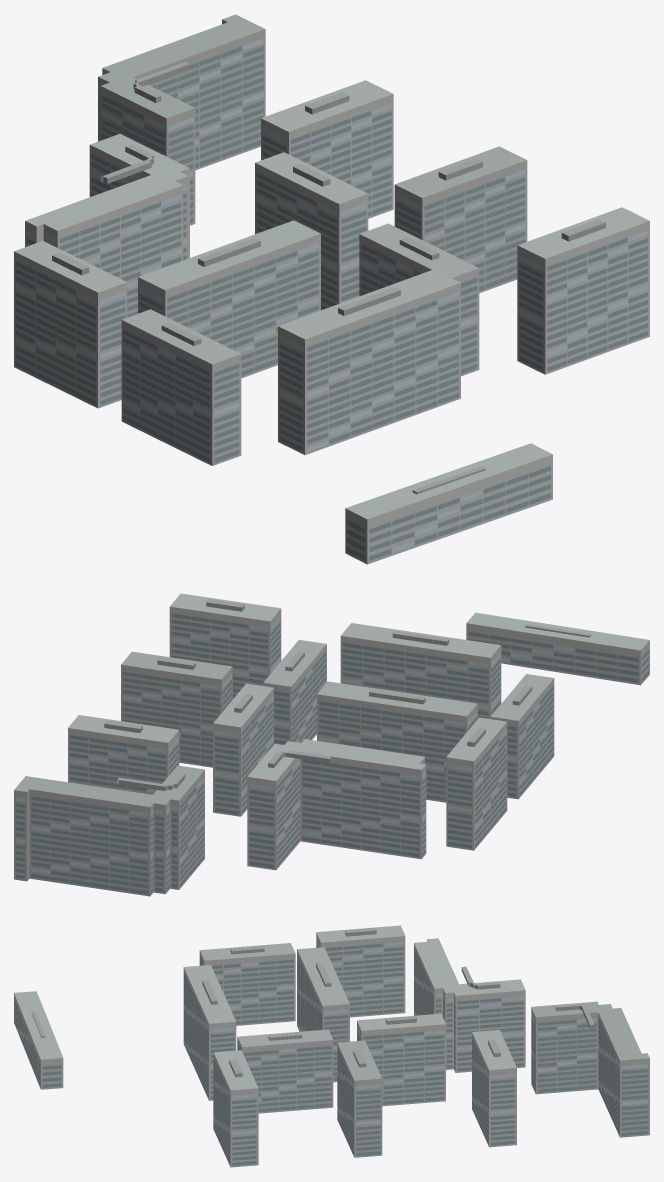
File: apt-a13594203.glb
3 views of the same model, one above another, from view 1: azimuth 30°, elevation 25°; view 2: azimuth 150°, elevation 25°; view 3: azimuth 270°, elevation 25° (orthographic). The views are drawn at different scales.
Visible parts, largest first — view 1: apt-a13594203; view 2: apt-a13594203; view 3: apt-a13594203.
Boxes of the visible parts, x1,y1,x2,y2 form: apt-a13594203: (14, 14, 649, 564); apt-a13594203: (14, 593, 649, 896); apt-a13594203: (14, 925, 649, 1167).
Size of the model in its own units: 180 by 41 by 293.
